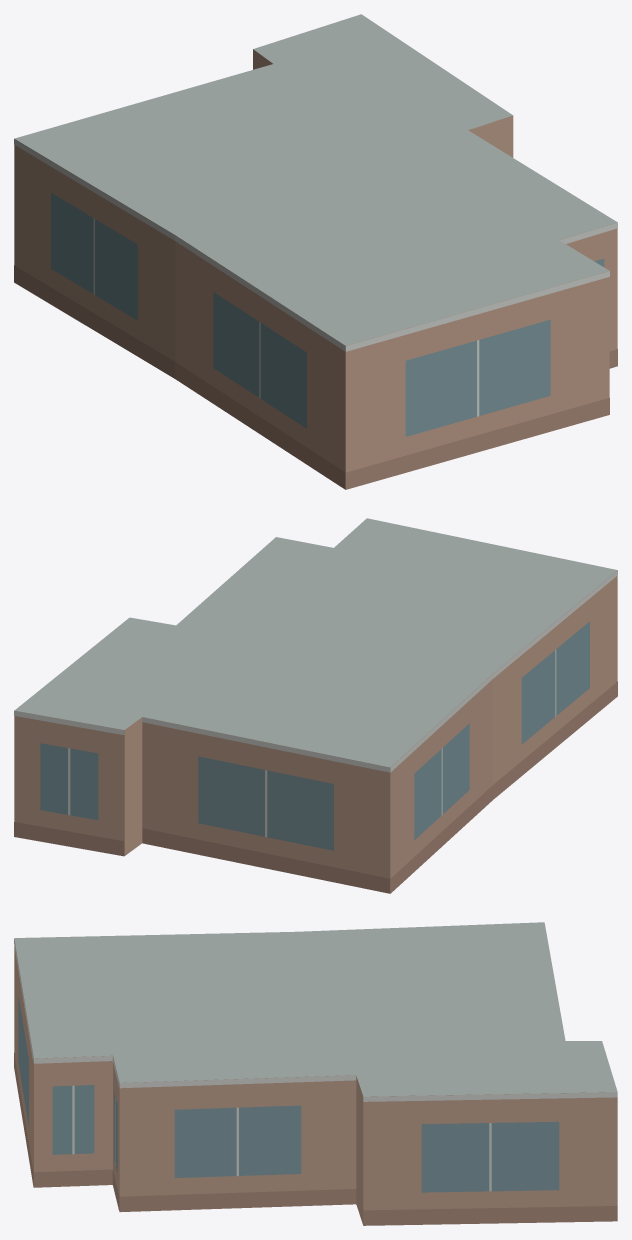
Rendered from survey-upis-32728963.glb.
3 renders of one model, top to bottom at view 1: azimuth 30°, elevation 25°; view 2: azimuth 150°, elevation 25°; view 3: azimuth 270°, elevation 25°, orthographic. The views are drawn at different scales.
Parts seen in each view (by area): view 1: survey-upis-32728963.tmp; view 2: survey-upis-32728963.tmp; view 3: survey-upis-32728963.tmp.
Boxes of the visible parts, left/top/right/bottom form: survey-upis-32728963.tmp: left=14, top=14, right=617, bottom=489; survey-upis-32728963.tmp: left=14, top=518, right=617, bottom=893; survey-upis-32728963.tmp: left=14, top=922, right=617, bottom=1225.
Size of the model in its own units: 8.85 by 3.05 by 12.93.
